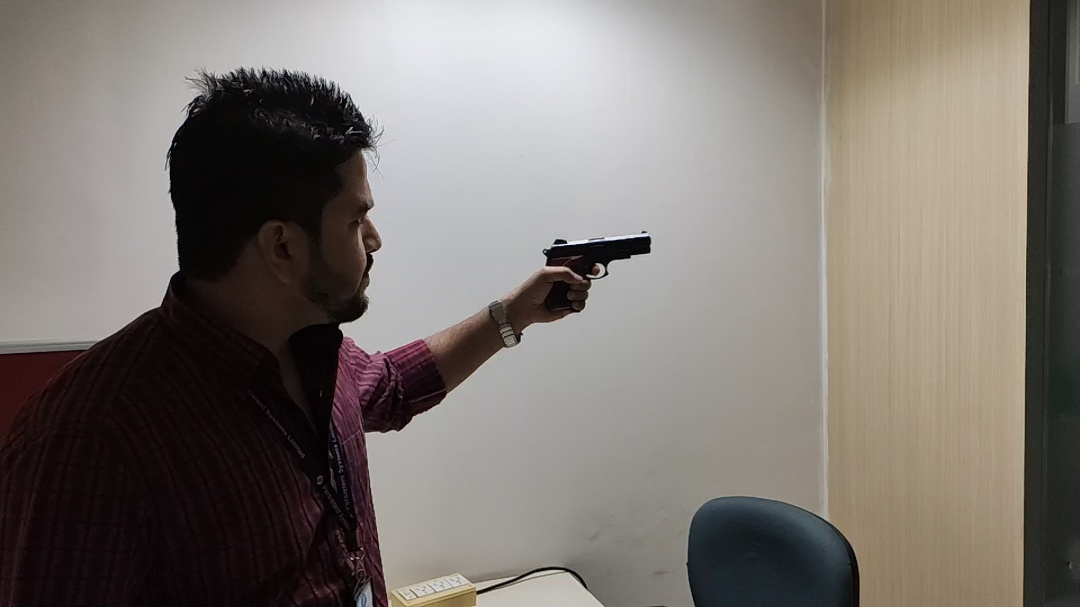gun: (536, 229, 661, 315)
